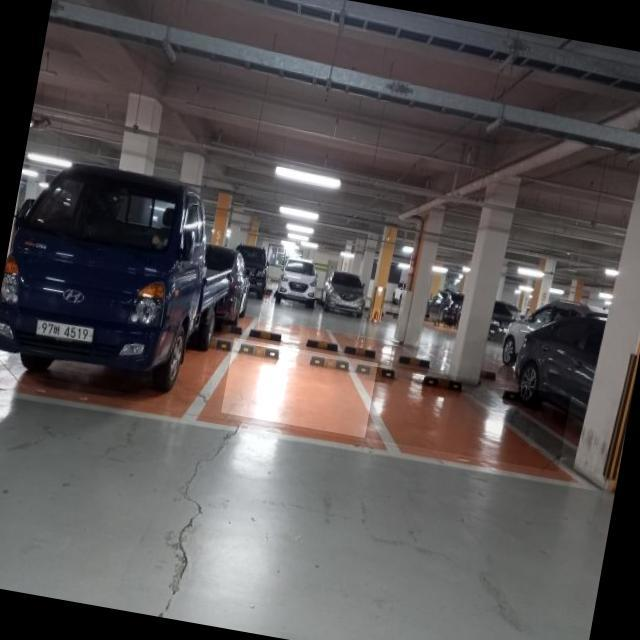empty: (348, 358, 570, 472), (220, 338, 378, 438)
occupied: (0, 153, 245, 406)
